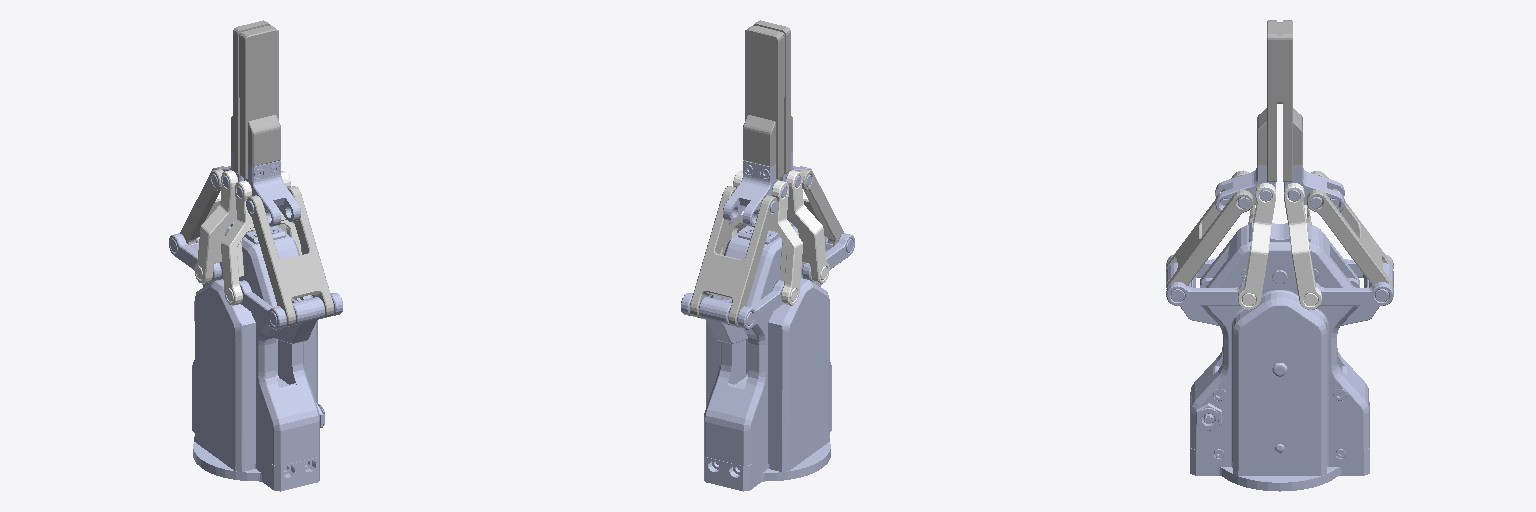
robot.urdf — ag95:
<?xml version="1.0" ?>
<!-- =================================================================================== -->
<!-- |    This document was autogenerated by xacro from ./src/dh_description/urdf/ag95_gripper.urdf.xacro | -->
<!-- |    EDITING THIS FILE BY HAND IS NOT RECOMMENDED                                 | -->
<!-- =================================================================================== -->
<robot name="ag95" xmlns:xacro="http://www.ros.org/wiki/xacro">
  <link name="ag95_base_link">
    <visual>
      <origin rpy="0 0 0" xyz="0 0 0"/>
      <geometry>
        <mesh filename="package://dh_description/meshes/ag95/base_link.dae"/>
      </geometry>
      <material name="">
        <color rgba="0.79216 0.81961 0.93333 1"/>
      </material>
    </visual>
    <collision>
      <origin rpy="0 0 0" xyz="0 0 0"/>
      <geometry>
        <mesh filename="package://dh_description/meshes/ag95/base_link.dae"/>
      </geometry>
    </collision>
    <inertial>
      <origin rpy="0 0 0" xyz="-1.9172E-05 4.6267E-05 0.054522"/>
      <mass value="0.3499"/>
      <inertia ixx="0.00050797" ixy="6.5338E-08" ixz="-7.1191E-08" iyy="0.00038427" iyz="3.8152E-07" izz="0.00016523"/>
    </inertial>
  </link>
  <joint name="ag95_finger_joint" type="prismatic">
    <origin rpy="0 0 0" xyz="0. 0. 0.085"/>
    <parent link="ag95_base_link"/>
    <child link="ag95_finger"/>
    <axis xyz="0 0 1"/>
    <limit effort="90.0" lower="-0.03" upper="0.0" velocity="0.03"/>
  </joint>
  <link name="ag95_finger">
    <visual>
      <origin rpy="0 0 0" xyz="0 0 0"/>
      <geometry>
        <mesh filename="package://dh_description/meshes/ag95/finger.dae"/>
      </geometry>
      <material name="">
        <color rgba="1 1 1 1"/>
      </material>
    </visual>
    <collision>
      <origin rpy="0 0 0" xyz="0 0 0"/>
      <geometry>
        <mesh filename="package://dh_description/meshes/ag95/finger.dae"/>
      </geometry>
    </collision>
    <inertial>
      <origin rpy="0 0 0" xyz="3.9135E-14 1.9462E-12 3.5194E-14"/>
      <mass value="0.0066216"/>
      <inertia ixx="1.4212E-06" ixy="-4.5344E-18" ixz="2.1335E-18" iyy="1.8936E-07" iyz="-2.1705E-19" izz="1.4719E-06"/>
    </inertial>
  </link>
  <joint name="ag95_left_outer_finger_joint" type="revolute">
    <origin rpy="-1.57079632679 0 1.57079632679" xyz="0. 0.02141 0."/>
    <parent link="ag95_finger"/>
    <child link="ag95_left_outer_finger"/>
    <axis xyz="0 0 1"/>
    <limit effort="90.0" lower="-0.5236" upper="-0.22689" velocity="1.0"/>
    <mimic joint="ag95_finger_joint" multiplier="9.89033333333" offset="-0.22689"/>
  </joint>
  <link name="ag95_left_outer_finger">
    <visual>
      <origin rpy="0 0 0" xyz="0 0 0"/>
      <geometry>
        <mesh filename="package://dh_description/meshes/ag95/outer_finger.dae"/>
      </geometry>
      <material name="">
        <color rgba="0.79216 0.81961 0.93333 1"/>
      </material>
    </visual>
    <collision>
      <origin rpy="0 0 0" xyz="0 0 0"/>
      <geometry>
        <mesh filename="package://dh_description/meshes/ag95/outer_finger.dae"/>
      </geometry>
    </collision>
    <inertial>
      <origin rpy="0 0 0" xyz="0.056202 0.03372 -6.3379E-11"/>
      <mass value="0.0067722"/>
      <inertia ixx="1.3438E-06" ixy="-4.6858E-07" ixz="4.7977E-15" iyy="6.4835E-07" iyz="1.7311E-15" izz="1.4005E-06"/>
    </inertial>
  </link>
  <joint name="ag95_left_bottom_knuckle_joint" type="revolute">
    <origin rpy="-1.57079632679 0 1.57079632679" xyz="0 0.016 0.10586"/>
    <parent link="ag95_base_link"/>
    <child link="ag95_left_bottom_knuckle"/>
    <axis xyz="0 0 1"/>
    <limit effort="90.0" lower="0.008727" upper="0.637045" velocity="1.0"/>
    <mimic joint="ag95_finger_joint" multiplier="-20.9439333333" offset="0.008727"/>
  </joint>
  <link name="ag95_left_bottom_knuckle">
    <visual>
      <origin rpy="0 0 0" xyz="0 0 0"/>
      <geometry>
        <mesh filename="package://dh_description/meshes/ag95/bottom_knuckle.dae"/>
      </geometry>
      <material name="">
        <color rgba="0.79216 0.81961 0.93333 1"/>
      </material>
    </visual>
    <collision>
      <origin rpy="0 0 0" xyz="0 0 0"/>
      <geometry>
        <mesh filename="package://dh_description/meshes/ag95/bottom_knuckle.dae"/>
      </geometry>
    </collision>
    <inertial>
      <origin rpy="0 0 0" xyz="0.019421 0.0012759 5.0395E-09"/>
      <mass value="0.0039541"/>
      <inertia ixx="1.1534E-06" ixy="-2.1521E-09" ixz="-1.124E-13" iyy="1.7667E-06" iyz="-9.3728E-15" izz="6.8389E-07"/>
    </inertial>
  </link>
  <joint name="ag95_left_inner_knuckle_joint" type="revolute">
    <origin rpy="1.57079632679 0 -1.57079632679" xyz="0 0.016 0.10586"/>
    <parent link="ag95_base_link"/>
    <child link="ag95_left_inner_knuckle"/>
    <axis xyz="0 0 1"/>
    <limit effort="90.0" lower="1.42244" upper="2.33525" velocity="1.0"/>
    <mimic joint="ag95_finger_joint" multiplier="-30.427" offset="1.42244"/>
  </joint>
  <link name="ag95_left_inner_knuckle">
    <visual>
      <origin rpy="0 0 0" xyz="0 0 0"/>
      <geometry>
        <mesh filename="package://dh_description/meshes/ag95/inner_knuckle.dae"/>
      </geometry>
      <material name="">
        <color rgba="1 1 1 1"/>
      </material>
    </visual>
    <collision>
      <origin rpy="0 0 0" xyz="0 0 0"/>
      <geometry>
        <mesh filename="package://dh_description/meshes/ag95/inner_knuckle.dae"/>
      </geometry>
    </collision>
    <inertial>
      <origin rpy="0 0 0" xyz="-0.0014206 0.023192 -3.3876E-10"/>
      <mass value="0.011317"/>
      <inertia ixx="6.694E-06" ixy="1.0721E-07" ixz="2.7063E-15" iyy="3.1292E-06" iyz="-4.9646E-14" izz="3.7346E-06"/>
    </inertial>
  </link>
  <joint name="ag95_left_outer_knuckle_joint" type="revolute">
    <origin rpy="0 0 0" xyz="0.035409 -0.01297 0"/>
    <parent link="ag95_left_outer_finger"/>
    <child link="ag95_left_outer_knuckle"/>
    <axis xyz="0 0 1"/>
    <limit effort="90.0" lower="-1.93926" upper="-0.72431" velocity="1.0"/>
    <mimic joint="ag95_finger_joint" multiplier="-40.4983333333" offset="-1.93926"/>
  </joint>
  <link name="ag95_left_outer_knuckle">
    <visual>
      <origin rpy="0 0 0" xyz="0 0 0"/>
      <geometry>
        <mesh filename="package://dh_description/meshes/ag95/outer_knuckle.dae"/>
      </geometry>
      <material name="">
        <color rgba="0.82353 0.82353 0.82353 1"/>
      </material>
    </visual>
    <collision>
      <origin rpy="0 0 0" xyz="0 0 0"/>
      <geometry>
        <mesh filename="package://dh_description/meshes/ag95/outer_knuckle.dae"/>
      </geometry>
    </collision>
    <inertial>
      <origin rpy="0 0 0" xyz="0.020694 -0.01587 -3.2261E-11"/>
      <mass value="0.0079313"/>
      <inertia ixx="1.6657E-06" ixy="1.1368E-06" ixz="-2.0382E-15" iyy="2.63E-06" iyz="3.0915E-15" izz="2.5842E-06"/>
    </inertial>
  </link>
  <joint name="ag95_left_inner_finger_joint" type="revolute">
    <origin rpy="0 0 0" xyz="0.055 -0.0005 0"/>
    <parent link="ag95_left_inner_knuckle"/>
    <child link="ag95_left_inner_finger"/>
    <axis xyz="0 0 1"/>
    <limit effort="90.0" lower="-0.764453673205" upper="0.148356326795" velocity="1.0"/>
    <mimic joint="ag95_finger_joint" multiplier="30.427" offset="0.148356326795"/>
  </joint>
  <link name="ag95_left_inner_finger">
    <visual>
      <origin rpy="0 0 0" xyz="0 0 0"/>
      <geometry>
        <mesh filename="package://dh_description/meshes/ag95/inner_finger.dae"/>
      </geometry>
      <material name="">
        <color rgba="0.79216 0.81961 0.93333 1"/>
      </material>
    </visual>
    <collision>
      <origin rpy="0 0 0" xyz="0 0 0"/>
      <geometry>
        <mesh filename="package://dh_description/meshes/ag95/inner_finger.dae"/>
      </geometry>
    </collision>
    <inertial>
      <origin rpy="0 0 0" xyz="0.0065415 -0.00088999 -3.4935E-11"/>
      <mass value="0.0063242"/>
      <inertia ixx="4.5852E-07" ixy="1.4329E-07" ixz="-1.8883E-16" iyy="5.9203E-07" iyz="-2.1194E-13" izz="5.3236E-07"/>
    </inertial>
  </link>
  <joint name="ag95_left_inner_finger_pad_joint" type="fixed">
    <origin rpy="1.57079632679 0 0" xyz="0.0104 -0.0005 0"/>
    <parent link="ag95_left_inner_finger"/>
    <child link="ag95_left_inner_finger_pad"/>
  </joint>
  <link name="ag95_left_inner_finger_pad">
    <visual>
      <origin rpy="0 0 0" xyz="0 0 0"/>
      <geometry>
        <mesh filename="package://dh_description/meshes/ag95/inner_finger_pad.dae"/>
      </geometry>
      <material name="">
        <color rgba="0.75294 0.75294 0.75294 1"/>
      </material>
    </visual>
    <collision>
      <origin rpy="0 0 0" xyz="0 0 0"/>
      <geometry>
        <mesh filename="package://dh_description/meshes/ag95/inner_finger_pad.dae"/>
      </geometry>
    </collision>
    <inertial>
      <origin rpy="0 0 0" xyz="2.7756E-17 -0.022596 0.0031612"/>
      <mass value="0.013257"/>
      <inertia ixx="6.5031E-06" ixy="-1.0656E-21" ixz="4.2343E-22" iyy="5.2255E-07" iyz="-1.4497E-07" izz="6.9079E-06"/>
    </inertial>
  </link>
  <joint name="ag95_right_outer_finger_joint" type="revolute">
    <origin rpy="-1.57079632679 0 -1.57079632679" xyz="0. -0.02141 0."/>
    <parent link="ag95_finger"/>
    <child link="ag95_right_outer_finger"/>
    <axis xyz="0 0 1"/>
    <limit effort="90.0" lower="-0.5236" upper="-0.22689" velocity="1.0"/>
    <mimic joint="ag95_finger_joint" multiplier="9.89033333333" offset="-0.22689"/>
  </joint>
  <link name="ag95_right_outer_finger">
    <visual>
      <origin rpy="0 0 0" xyz="0 0 0"/>
      <geometry>
        <mesh filename="package://dh_description/meshes/ag95/outer_finger.dae"/>
      </geometry>
      <material name="">
        <color rgba="0.79216 0.81961 0.93333 1"/>
      </material>
    </visual>
    <collision>
      <origin rpy="0 0 0" xyz="0 0 0"/>
      <geometry>
        <mesh filename="package://dh_description/meshes/ag95/outer_finger.dae"/>
      </geometry>
    </collision>
    <inertial>
      <origin rpy="0 0 0" xyz="0.056202 0.03372 -6.3379E-11"/>
      <mass value="0.0067722"/>
      <inertia ixx="1.3438E-06" ixy="-4.6858E-07" ixz="4.7977E-15" iyy="6.4835E-07" iyz="1.7311E-15" izz="1.4005E-06"/>
    </inertial>
  </link>
  <joint name="ag95_right_bottom_knuckle_joint" type="revolute">
    <origin rpy="-1.57079632679 0 -1.57079632679" xyz="0 -0.016 0.10586"/>
    <parent link="ag95_base_link"/>
    <child link="ag95_right_bottom_knuckle"/>
    <axis xyz="0 0 1"/>
    <limit effort="90.0" lower="0.008727" upper="0.637045" velocity="1.0"/>
    <mimic joint="ag95_finger_joint" multiplier="-20.9439333333" offset="0.008727"/>
  </joint>
  <link name="ag95_right_bottom_knuckle">
    <visual>
      <origin rpy="0 0 0" xyz="0 0 0"/>
      <geometry>
        <mesh filename="package://dh_description/meshes/ag95/bottom_knuckle.dae"/>
      </geometry>
      <material name="">
        <color rgba="0.79216 0.81961 0.93333 1"/>
      </material>
    </visual>
    <collision>
      <origin rpy="0 0 0" xyz="0 0 0"/>
      <geometry>
        <mesh filename="package://dh_description/meshes/ag95/bottom_knuckle.dae"/>
      </geometry>
    </collision>
    <inertial>
      <origin rpy="0 0 0" xyz="0.019421 0.0012759 5.0395E-09"/>
      <mass value="0.0039541"/>
      <inertia ixx="1.1534E-06" ixy="-2.1521E-09" ixz="-1.124E-13" iyy="1.7667E-06" iyz="-9.3728E-15" izz="6.8389E-07"/>
    </inertial>
  </link>
  <joint name="ag95_right_inner_knuckle_joint" type="revolute">
    <origin rpy="1.57079632679 0 1.57079632679" xyz="0 -0.016 0.10586"/>
    <parent link="ag95_base_link"/>
    <child link="ag95_right_inner_knuckle"/>
    <axis xyz="0 0 1"/>
    <limit effort="90.0" lower="1.42244" upper="2.33525" velocity="1.0"/>
    <mimic joint="ag95_finger_joint" multiplier="-30.427" offset="1.42244"/>
  </joint>
  <link name="ag95_right_inner_knuckle">
    <visual>
      <origin rpy="0 0 0" xyz="0 0 0"/>
      <geometry>
        <mesh filename="package://dh_description/meshes/ag95/inner_knuckle.dae"/>
      </geometry>
      <material name="">
        <color rgba="1 1 1 1"/>
      </material>
    </visual>
    <collision>
      <origin rpy="0 0 0" xyz="0 0 0"/>
      <geometry>
        <mesh filename="package://dh_description/meshes/ag95/inner_knuckle.dae"/>
      </geometry>
    </collision>
    <inertial>
      <origin rpy="0 0 0" xyz="-0.0014206 0.023192 -3.3876E-10"/>
      <mass value="0.011317"/>
      <inertia ixx="6.694E-06" ixy="1.0721E-07" ixz="2.7063E-15" iyy="3.1292E-06" iyz="-4.9646E-14" izz="3.7346E-06"/>
    </inertial>
  </link>
  <joint name="ag95_right_outer_knuckle_joint" type="revolute">
    <origin rpy="0 0 0" xyz="0.035409 -0.01297 0"/>
    <parent link="ag95_right_outer_finger"/>
    <child link="ag95_right_outer_knuckle"/>
    <axis xyz="0 0 1"/>
    <limit effort="90.0" lower="-1.93926" upper="-0.72431" velocity="1.0"/>
    <mimic joint="ag95_finger_joint" multiplier="-40.4983333333" offset="-1.93926"/>
  </joint>
  <link name="ag95_right_outer_knuckle">
    <visual>
      <origin rpy="0 0 0" xyz="0 0 0"/>
      <geometry>
        <mesh filename="package://dh_description/meshes/ag95/outer_knuckle.dae"/>
      </geometry>
      <material name="">
        <color rgba="0.82353 0.82353 0.82353 1"/>
      </material>
    </visual>
    <collision>
      <origin rpy="0 0 0" xyz="0 0 0"/>
      <geometry>
        <mesh filename="package://dh_description/meshes/ag95/outer_knuckle.dae"/>
      </geometry>
    </collision>
    <inertial>
      <origin rpy="0 0 0" xyz="0.020694 -0.01587 -3.2261E-11"/>
      <mass value="0.0079313"/>
      <inertia ixx="1.6657E-06" ixy="1.1368E-06" ixz="-2.0382E-15" iyy="2.63E-06" iyz="3.0915E-15" izz="2.5842E-06"/>
    </inertial>
  </link>
  <joint name="ag95_right_inner_finger_joint" type="revolute">
    <origin rpy="0 0 0" xyz="0.055 -0.0005 0"/>
    <parent link="ag95_right_inner_knuckle"/>
    <child link="ag95_right_inner_finger"/>
    <axis xyz="0 0 1"/>
    <limit effort="90.0" lower="-0.764453673205" upper="0.148356326795" velocity="1.0"/>
    <mimic joint="ag95_finger_joint" multiplier="30.427" offset="0.148356326795"/>
  </joint>
  <link name="ag95_right_inner_finger">
    <visual>
      <origin rpy="0 0 0" xyz="0 0 0"/>
      <geometry>
        <mesh filename="package://dh_description/meshes/ag95/inner_finger.dae"/>
      </geometry>
      <material name="">
        <color rgba="0.79216 0.81961 0.93333 1"/>
      </material>
    </visual>
    <collision>
      <origin rpy="0 0 0" xyz="0 0 0"/>
      <geometry>
        <mesh filename="package://dh_description/meshes/ag95/inner_finger.dae"/>
      </geometry>
    </collision>
    <inertial>
      <origin rpy="0 0 0" xyz="0.0065415 -0.00088999 -3.4935E-11"/>
      <mass value="0.0063242"/>
      <inertia ixx="4.5852E-07" ixy="1.4329E-07" ixz="-1.8883E-16" iyy="5.9203E-07" iyz="-2.1194E-13" izz="5.3236E-07"/>
    </inertial>
  </link>
  <joint name="ag95_right_inner_finger_pad_joint" type="fixed">
    <origin rpy="1.57079632679 0 0" xyz="0.0104 -0.0005 0"/>
    <parent link="ag95_right_inner_finger"/>
    <child link="ag95_right_inner_finger_pad"/>
  </joint>
  <link name="ag95_right_inner_finger_pad">
    <visual>
      <origin rpy="0 0 0" xyz="0 0 0"/>
      <geometry>
        <mesh filename="package://dh_description/meshes/ag95/inner_finger_pad.dae"/>
      </geometry>
      <material name="">
        <color rgba="0.75294 0.75294 0.75294 1"/>
      </material>
    </visual>
    <collision>
      <origin rpy="0 0 0" xyz="0 0 0"/>
      <geometry>
        <mesh filename="package://dh_description/meshes/ag95/inner_finger_pad.dae"/>
      </geometry>
    </collision>
    <inertial>
      <origin rpy="0 0 0" xyz="2.7756E-17 -0.022596 0.0031612"/>
      <mass value="0.013257"/>
      <inertia ixx="6.5031E-06" ixy="-1.0656E-21" ixz="4.2343E-22" iyy="5.2255E-07" iyz="-1.4497E-07" izz="6.9079E-06"/>
    </inertial>
  </link>
  <transmission name="ag95_finger_trans">
    <type>transmission_interface/SimpleTransmission</type>
    <joint name="ag95_finger_joint">
      <hardwareInterface>hardware_interface/PositionJointInterface</hardwareInterface>
    </joint>
    <actuator name="ag95_finger_motor">
      <mechanicalReduction>-3333.33333333</mechanicalReduction>
    </actuator>
  </transmission>
  <gazebo reference="ag95_base_link">
    <material>Gazebo/Black</material>
  </gazebo>
  <gazebo reference="ag95_finger">
    <material>Gazebo/Grey</material>
  </gazebo>
  <gazebo reference="ag95_left_outer_finger">
    <material>Gazebo/Grey</material>
  </gazebo>
  <gazebo reference="ag95_left_bottom_knuckle">
    <material>Gazebo/Black</material>
  </gazebo>
  <gazebo reference="ag95_left_inner_knuckle">
    <material>Gazebo/Black</material>
  </gazebo>
  <gazebo reference="ag95_left_outer_knuckle">
    <material>Gazebo/Black</material>
  </gazebo>
  <gazebo reference="ag95_left_inner_finger">
    <material>Gazebo/Grey</material>
  </gazebo>
  <gazebo reference="ag95_left_inner_finger_pad">
    <material>Gazebo/Grey</material>
  </gazebo>
  <gazebo reference="ag95_right_outer_finger">
    <material>Gazebo/Grey</material>
  </gazebo>
  <gazebo reference="ag95_right_bottom_knuckle">
    <material>Gazebo/Black</material>
  </gazebo>
  <gazebo reference="ag95_right_inner_knuckle">
    <material>Gazebo/Black</material>
  </gazebo>
  <gazebo reference="ag95_right_outer_knuckle">
    <material>Gazebo/Black</material>
  </gazebo>
  <gazebo reference="ag95_right_inner_finger">
    <material>Gazebo/Grey</material>
  </gazebo>
  <gazebo reference="ag95_right_inner_finger_pad">
    <material>Gazebo/Grey</material>
  </gazebo>
  <!-- ros_control plugin -->
  <gazebo>
    <plugin filename="libgazebo_ros_control.so" name="gazebo_ros_control">
      <robotNamespace>/dh_ag95</robotNamespace>
      <legacyModeNS>false</legacyModeNS>
    </plugin>
  </gazebo>
</robot>

--- Render facts (derived) ---
3 views of the same robot in one strip: view 1: azimuth 30°, elevation 25°; view 2: azimuth 150°, elevation 25°; view 3: azimuth 270°, elevation 25° (orthographic).
Model ag95 with 14 links and 13 joints (10 revolute, 1 prismatic, 2 fixed), rooted at ag95_base_link, posed joints at zero except 8 at the middle of their limits (ag95_left_outer_finger_joint = -0.2269, ag95_left_bottom_knuckle_joint = 0.0087, ag95_left_inner_knuckle_joint = 1.42, ag95_left_outer_knuckle_joint = -1.94, ag95_left_inner_finger_joint = 0.1484, ag95_right_outer_finger_joint = -0.2269, +2 more).
Links seen in each view (by area): view 1: ag95_base_link, ag95_right_inner_finger_pad, ag95_right_outer_knuckle, ag95_right_inner_knuckle, ag95_left_inner_knuckle, ag95_right_inner_finger, ag95_right_outer_finger, ag95_left_outer_knuckle, ag95_left_inner_finger_pad, ag95_right_bottom_knuckle, ag95_left_bottom_knuckle; view 2: ag95_base_link, ag95_left_inner_finger_pad, ag95_left_outer_knuckle, ag95_left_inner_knuckle, ag95_right_inner_knuckle, ag95_left_inner_finger, ag95_left_outer_finger, ag95_right_outer_knuckle, ag95_right_inner_finger_pad, ag95_left_bottom_knuckle, ag95_right_bottom_knuckle; view 3: ag95_base_link, ag95_right_outer_knuckle, ag95_left_outer_knuckle, ag95_left_inner_knuckle, ag95_right_inner_knuckle, ag95_left_inner_finger_pad, ag95_right_inner_finger_pad, ag95_left_bottom_knuckle, ag95_right_bottom_knuckle, ag95_right_inner_finger, ag95_left_inner_finger, ag95_right_outer_finger (+1 smaller).
Link boxes in pixels (left/top/right/bottom): ag95_base_link: left=192, top=222, right=324, bottom=491; ag95_right_inner_finger_pad: left=240, top=26, right=280, bottom=179; ag95_right_outer_knuckle: left=246, top=186, right=333, bottom=326; ag95_right_inner_knuckle: left=221, top=171, right=303, bottom=305; ag95_left_inner_knuckle: left=194, top=170, right=286, bottom=283; ag95_right_inner_finger: left=237, top=160, right=300, bottom=226; ag95_right_outer_finger: left=270, top=297, right=324, bottom=343; ag95_left_outer_knuckle: left=180, top=169, right=223, bottom=244; ag95_left_inner_finger_pad: left=231, top=20, right=270, bottom=173; ag95_right_bottom_knuckle: left=240, top=280, right=342, bottom=329; ag95_left_bottom_knuckle: left=169, top=233, right=221, bottom=281; ag95_base_link: left=704, top=222, right=831, bottom=491; ag95_left_inner_finger_pad: left=743, top=26, right=783, bottom=179; ag95_left_outer_knuckle: left=690, top=186, right=777, bottom=327; ag95_left_inner_knuckle: left=720, top=171, right=802, bottom=305; ag95_right_inner_knuckle: left=737, top=170, right=829, bottom=283; ag95_left_inner_finger: left=723, top=160, right=786, bottom=226; ag95_left_outer_finger: left=699, top=297, right=753, bottom=343; ag95_right_outer_knuckle: left=800, top=169, right=843, bottom=244; ag95_right_inner_finger_pad: left=753, top=20, right=792, bottom=173; ag95_left_bottom_knuckle: left=681, top=280, right=783, bottom=329; ag95_right_bottom_knuckle: left=802, top=233, right=854, bottom=281; ag95_base_link: left=1190, top=222, right=1369, bottom=491; ag95_right_outer_knuckle: left=1166, top=170, right=1253, bottom=289; ag95_left_outer_knuckle: left=1307, top=171, right=1393, bottom=290; ag95_left_inner_knuckle: left=1284, top=183, right=1321, bottom=309; ag95_right_inner_knuckle: left=1238, top=183, right=1275, bottom=309; ag95_left_inner_finger_pad: left=1280, top=20, right=1302, bottom=181; ag95_right_inner_finger_pad: left=1257, top=20, right=1279, bottom=181; ag95_left_bottom_knuckle: left=1315, top=254, right=1393, bottom=305; ag95_right_bottom_knuckle: left=1166, top=255, right=1244, bottom=305; ag95_right_inner_finger: left=1215, top=165, right=1275, bottom=211; ag95_left_inner_finger: left=1284, top=165, right=1344, bottom=211; ag95_right_outer_finger: left=1166, top=263, right=1218, bottom=325.
Bounding box of the posed robot: 0.067 × 0.1181 × 0.2536 m (x, y, z).
14 mesh visuals loaded from 8 distinct referenced files (8 Collada DAE).
